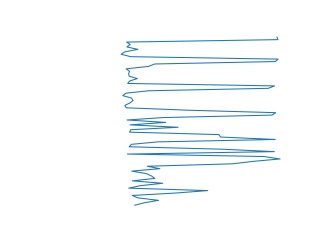crevasseRiverChannelBar: (123, 159, 272, 205)
majorRiverBedLagDeposit: (124, 121, 285, 163)
majorRiverChannelBar: (117, 33, 283, 118)
